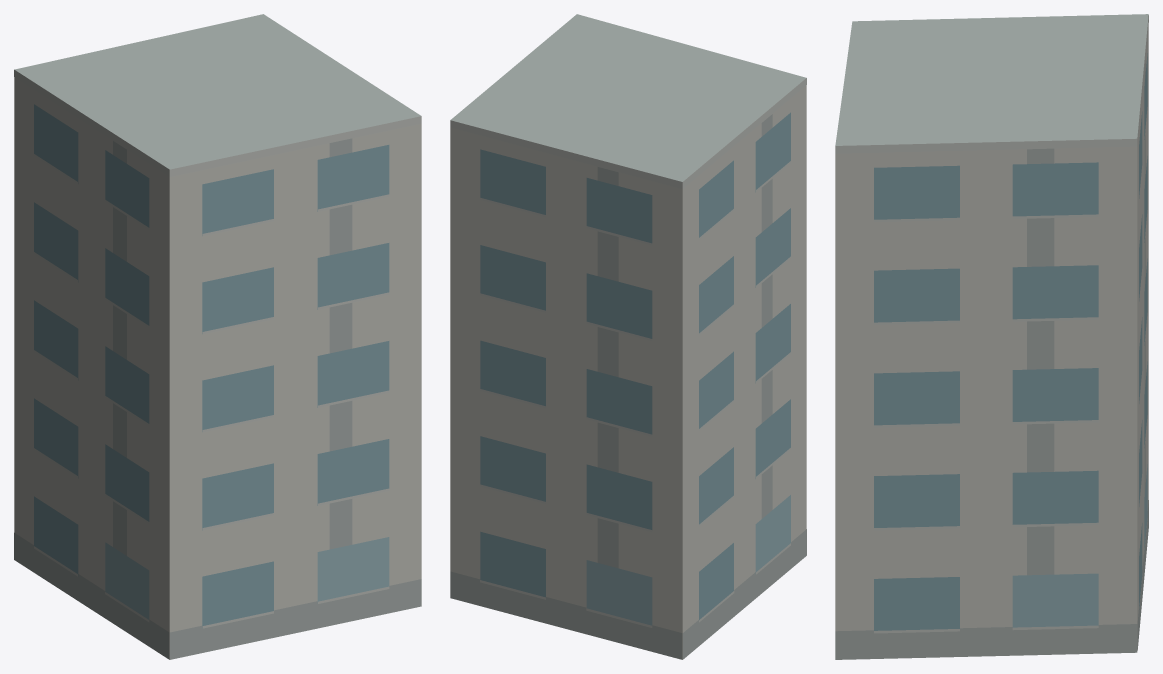
The model's file is survey-upis-33011989.glb.
3 views of the same model, side by side, from view 1: azimuth 30°, elevation 25°; view 2: azimuth 150°, elevation 25°; view 3: azimuth 270°, elevation 25° (orthographic). The views are drawn at different scales.
Visible parts, largest first — view 1: survey-upis-33011989.tmp; view 2: survey-upis-33011989.tmp; view 3: survey-upis-33011989.tmp.
Part boxes in pixels (x1,y1,x2,y2): survey-upis-33011989.tmp: (14, 14, 421, 659); survey-upis-33011989.tmp: (450, 14, 806, 659); survey-upis-33011989.tmp: (835, 14, 1148, 659).
Size of the model in its own units: 8.74 by 15.85 by 8.77.
